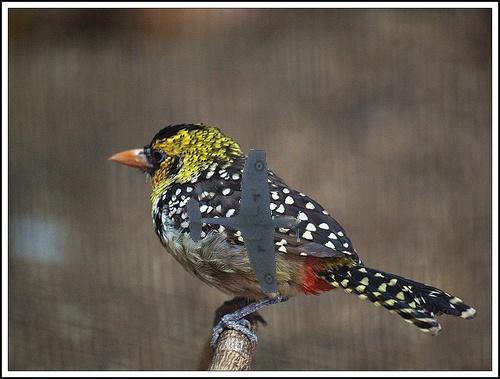tampered: (186, 150, 301, 293)
